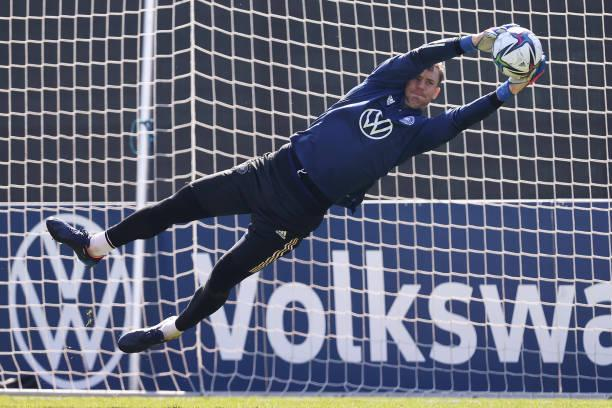Goalkeeper: (47, 24, 551, 353)
ball: (494, 27, 543, 78)
